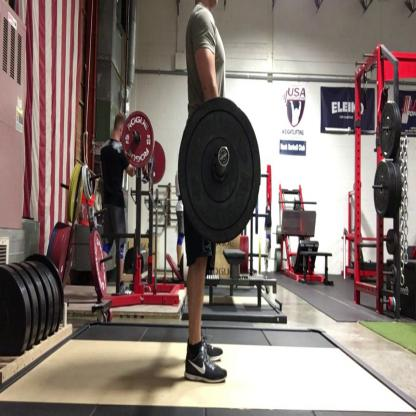Barbell: (179, 93, 264, 247), (120, 107, 156, 174)
